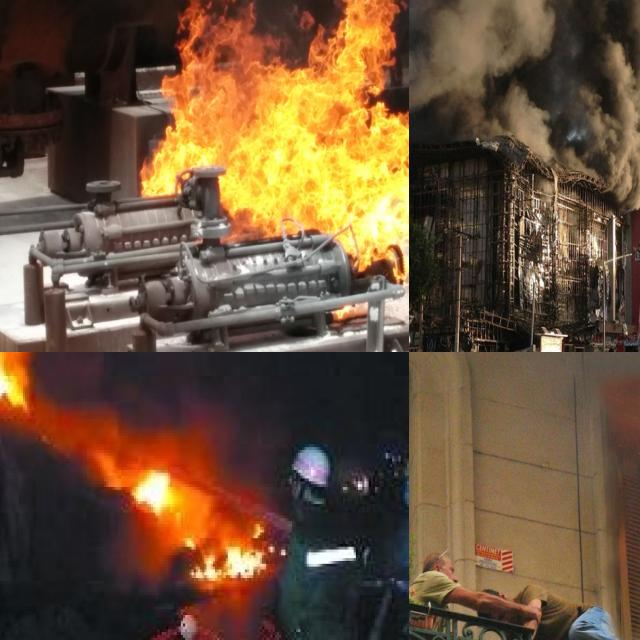fire: (145, 0, 409, 286), (189, 512, 275, 581), (115, 447, 181, 518), (0, 352, 35, 413)
smoke: (409, 0, 640, 263), (42, 402, 222, 470)
